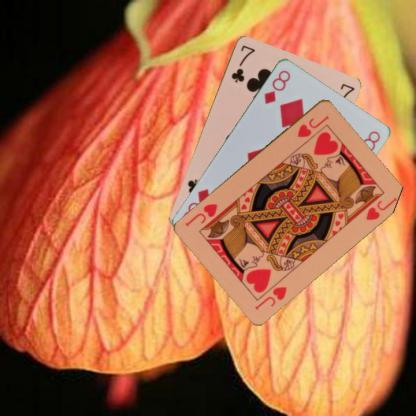7c: (228, 42, 257, 84)
8d: (261, 67, 292, 105)
Jh: (252, 283, 288, 312), (295, 113, 330, 139)
